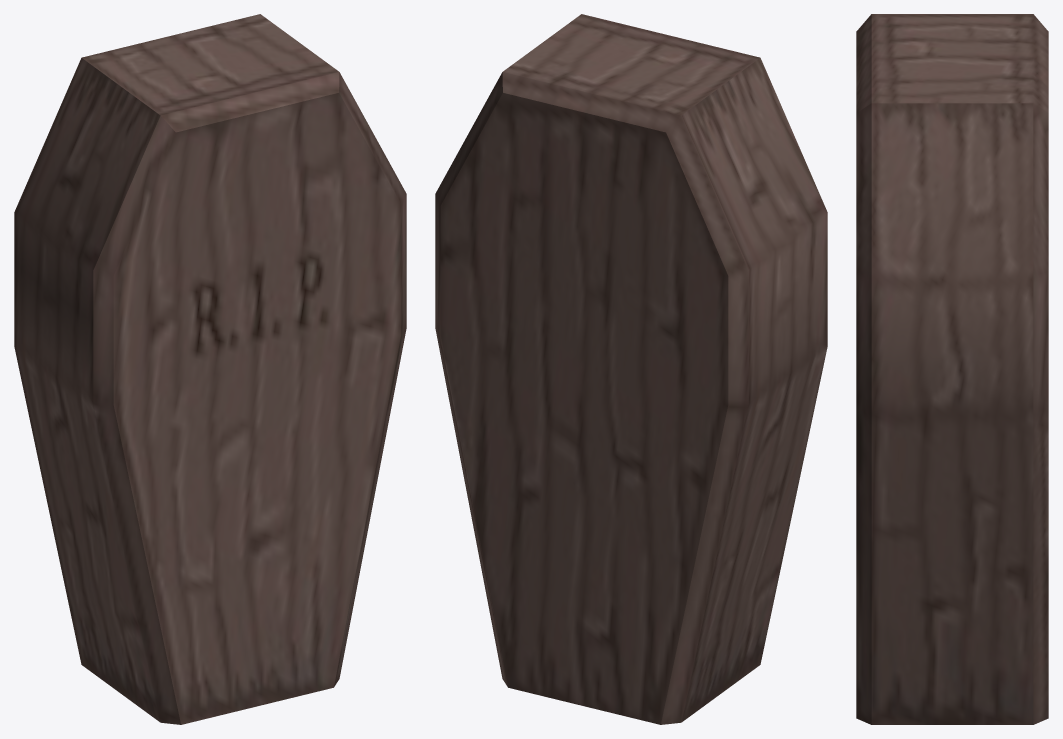
File: coffin.fbx
3 renders of one model, left to right at view 1: azimuth 30°, elevation 25°; view 2: azimuth 150°, elevation 25°; view 3: azimuth 270°, elevation 25°, orthographic. The views are drawn at different scales.
Parts seen in each view (by area): view 1: Coffin; view 2: Coffin; view 3: Coffin.
Part boxes in pixels (box(x1,y1,x2,y2)): Coffin: box(14, 14, 406, 724); Coffin: box(435, 14, 827, 724); Coffin: box(856, 14, 1048, 724).
Bounding box in the file's own units: 2.86 × 5.29 × 1.48.
